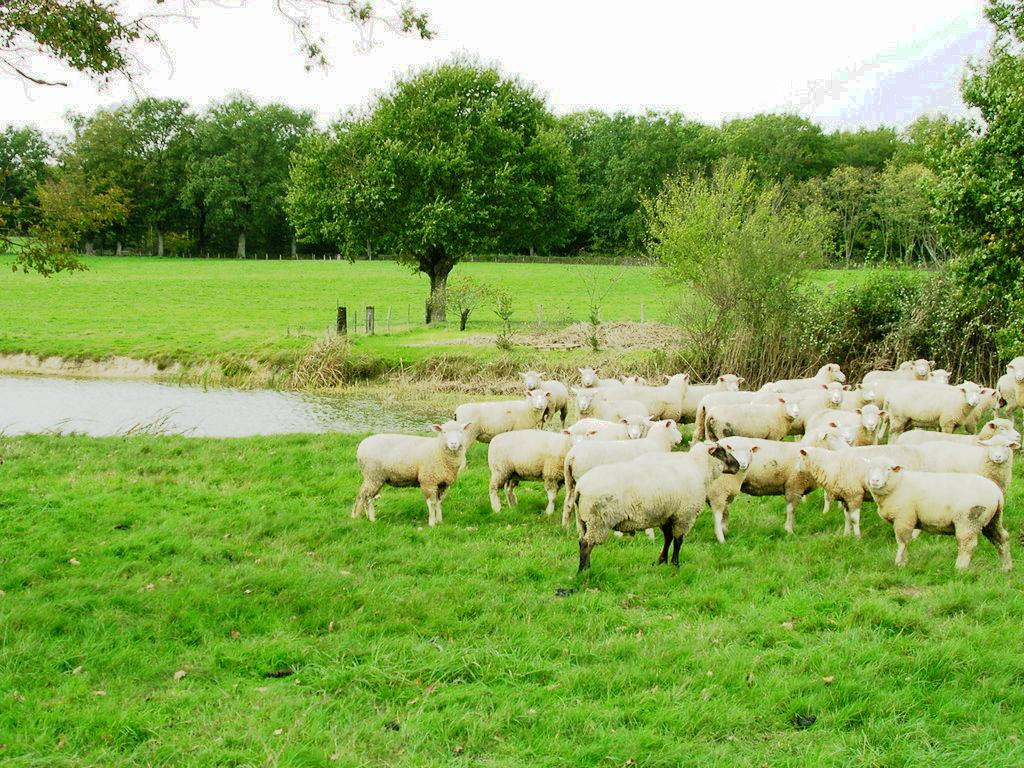Sheep: (572, 442, 742, 568), (856, 450, 1022, 575), (348, 412, 472, 532), (487, 426, 591, 508), (711, 381, 805, 444), (458, 390, 556, 441), (895, 377, 985, 427), (608, 373, 689, 423), (812, 403, 890, 449), (572, 412, 655, 449), (571, 389, 648, 423), (522, 369, 566, 418), (808, 372, 854, 408), (572, 366, 623, 389)
